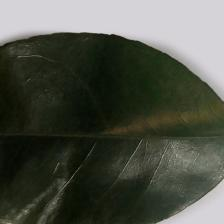healthy: (9, 43, 221, 220)
